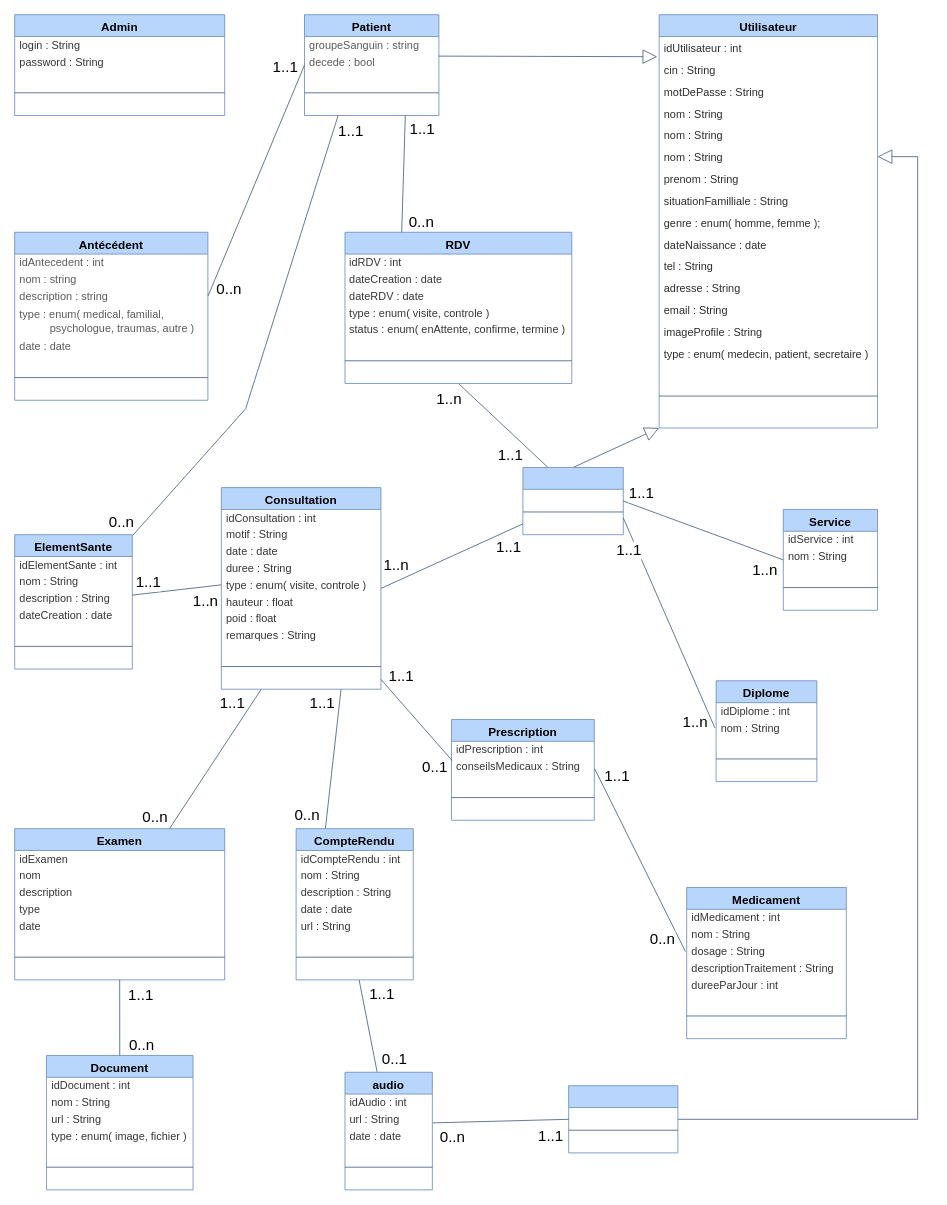
Some shapes in this 947 by 1205 pixel diagram are drawn without their labels. Here are the shapes that lost their labels. From the top down, the centre of each, then its label:
At point 572,501: "Medcin".
At point 623,1119: "Secretaire".
